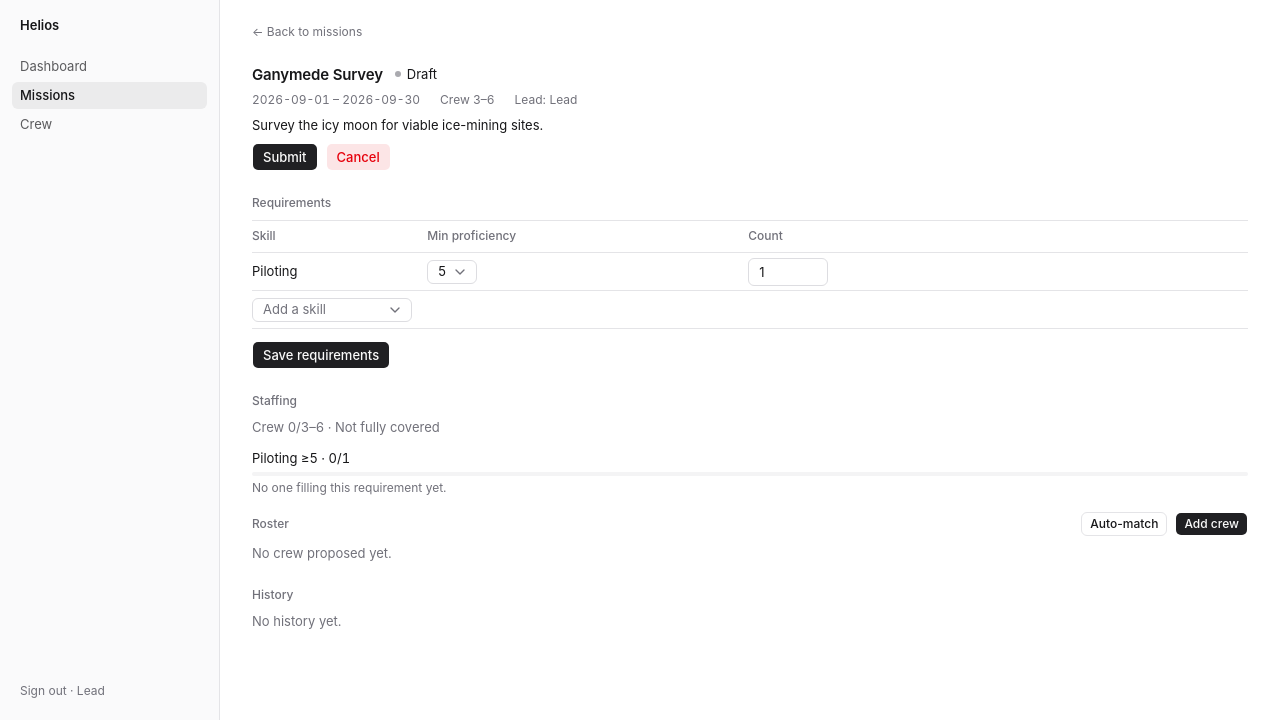
Test case: mission detail › shows something intelligible when the server rejects requirements with list-shaped field errors
Check: the text "Piloting" is shown, box [252,253,415,291]
Click the button "Save requirements" at (321, 355), box [252,341,390,369]
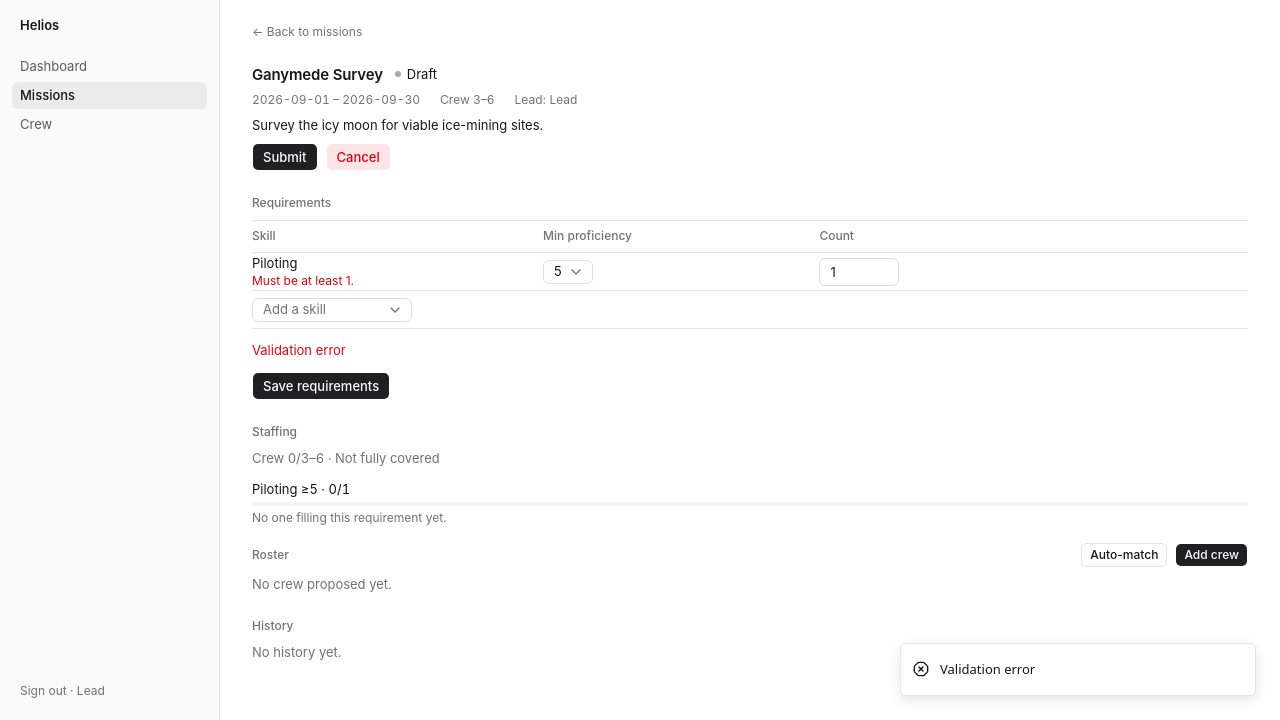
Check: the text "Must be at least 1." is shown, box [252,273,354,288]
